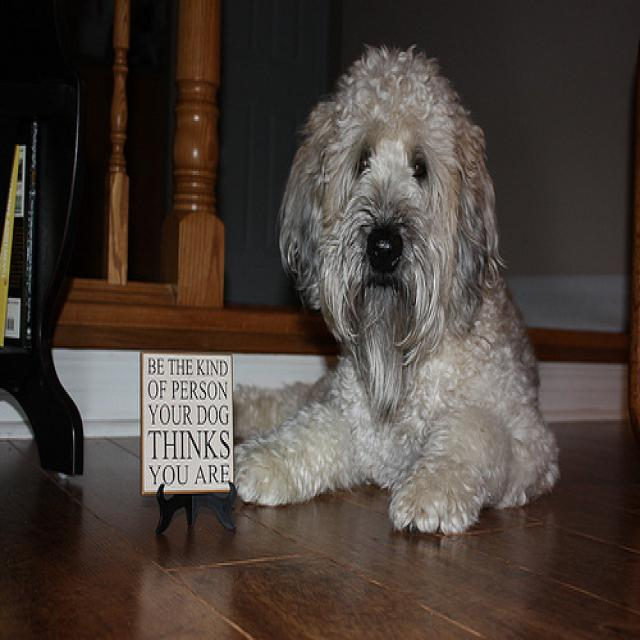dog-wheaten_terrier: (221, 33, 571, 544)
